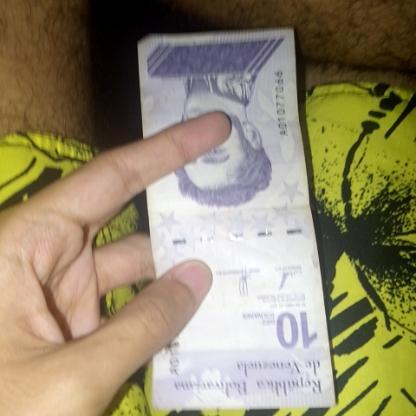vef_front: (140, 30, 338, 416)
